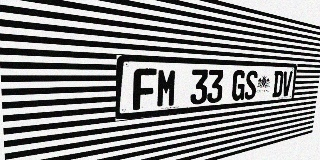3: (190, 69, 208, 105), (207, 70, 224, 103)
D: (272, 71, 284, 97)
F: (133, 68, 157, 110)
G: (231, 70, 246, 101)
M: (156, 69, 177, 108)
S: (244, 70, 258, 100)
V: (281, 71, 293, 97)
